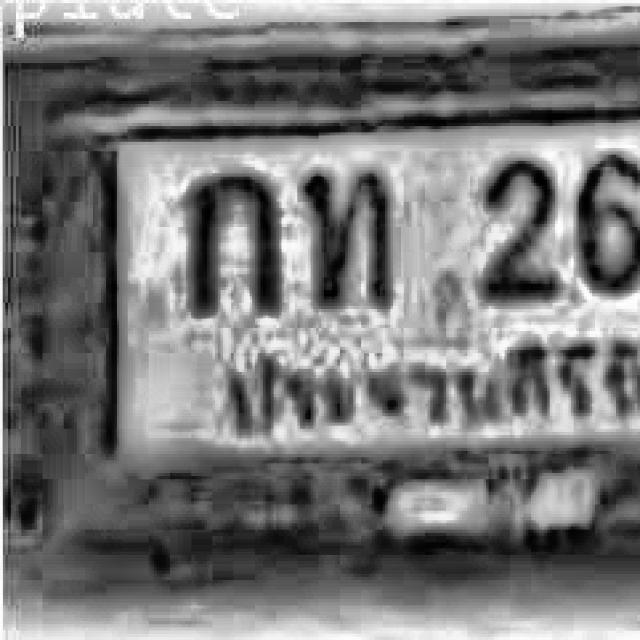license-plate: (97, 91, 640, 535)
